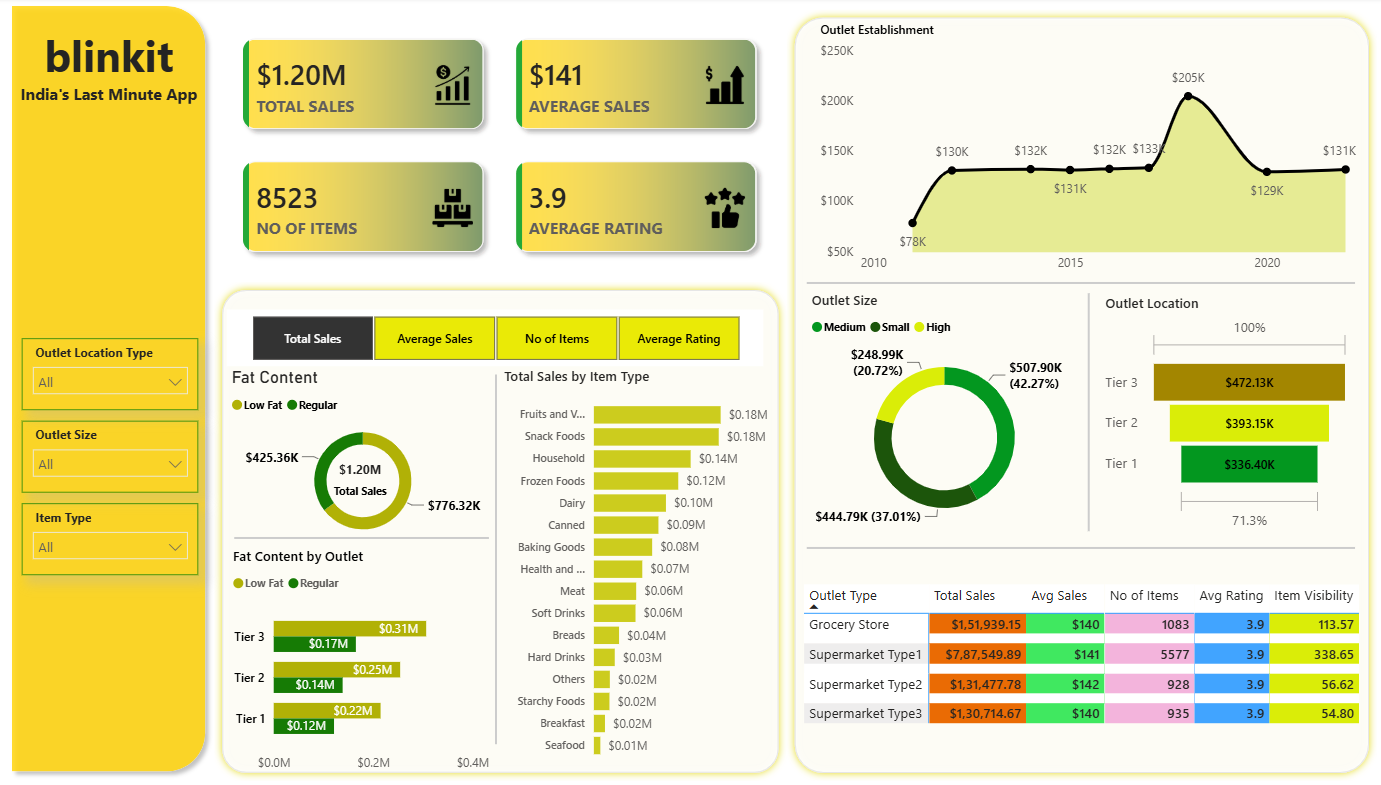

The page's visual inventory and layout, read from the dashboard file:
{"tool":"powerbi","page":{"name":"Page 1","canvas":[1400,800],"ordinal":0},"visuals":[{"type":"shape","box":[10.5,0,211.6,785],"z":0},{"type":"textbox","box":[16.5,24,199.6,88.6],"z":1000},{"type":"cardVisual","fields":{"Data":["Sheet1.Total Sales","Sheet1.Average Sales","Sheet1.No of Items","Sheet1.Average Rating"]},"box":[222.1,12,573.3,273.2],"z":2000},{"type":"shape","box":[222.1,285.2,573.3,499.8],"z":3000},{"type":"donutChart","title":"Fat Content","fields":{"Y":["Sheet1.Total Sales"],"Category":["Sheet1.Item Fat Content"]},"box":[234.1,370.7,273.2,181.6],"z":4000},{"type":"slicer","fields":{"Values":["Metrics.Metrics"]},"box":[234.1,313.7,537.3,57],"z":5000},{"type":"card","fields":{"Values":["Sheet1.Total Sales"]},"box":[336.2,460.8,64.5,43.5],"z":6000},{"type":"clusteredBarChart","title":"Fat Content by Outlet","fields":{"Y":["Sheet1.Total Sales"],"Series":["Sheet1.Item Fat Content"],"Category":["Sheet1.Outlet Location Type"]},"box":[235.6,550.8,267.2,234.1],"z":7000},{"type":"shape","box":[241.6,532.8,255.1,19.5],"z":8000},{"type":"shape","box":[496.8,378.2,13.5,370.7],"z":9000},{"type":"barChart","fields":{"Y":["Sheet1.Total Sales"],"Category":["Sheet1.Item Type"]},"box":[507.3,370.7,274.7,402.2],"z":10000},{"type":"shape","box":[795.5,12,591.3,772.9],"z":11000},{"type":"lineChart","title":"Outlet Establishment","fields":{"Category":["Sheet1.Outlet Establishment Year"],"Y":["Sheet1.Total Sales"]},"box":[824,24,549.3,261.2],"z":12000},{"type":"donutChart","title":"Outlet Size","fields":{"Y":["Sheet1.Total Sales"],"Category":["Sheet1.Outlet Size"]},"box":[815,294.2,276.2,249.1],"z":13000},{"type":"shape","box":[815,268.7,549.3,34.5],"z":14000},{"type":"shape","box":[1082.1,297.2,31.5,238.6],"z":15000},{"type":"funnel","title":"Outlet Location","fields":{"Y":["Sheet1.Total Sales"],"Category":["Sheet1.Outlet Location Type"]},"box":[1109.1,297.2,255.1,243.1],"z":16000},{"type":"shape","box":[815,519.3,549.3,64.5],"z":17000},{"type":"pivotTable","fields":{"Rows":["Sheet1.Outlet Type"],"Values":["Sheet1.Total Sales","Sheet1.Average Sales","Sheet1.No of Items","Sheet1.Average Rating","Sum(Sheet1.Item Visibility)"]},"box":[807.5,583.8,567.3,180.1],"z":18000},{"type":"slicer","fields":{"Values":["Sheet1.Outlet Location Type"]},"box":[28.5,342.2,177.1,72],"z":19000},{"type":"slicer","fields":{"Values":["Sheet1.Outlet Size"]},"box":[28.5,424.7,177.1,72],"z":20000},{"type":"slicer","fields":{"Values":["Sheet1.Item Type"]},"box":[28.5,507.3,177.1,72],"z":21000}]}

Visuals, with their boxes in screenshot pixels (x1, y1, x2, y2), scaled from the page's 1400x800 canvas onto the 1381x785 screenshot:
shape: [10, 0, 219, 770]
textbox: [16, 24, 213, 110]
cardVisual - Sheet1.Total Sales x Sheet1.Average Sales: [219, 12, 785, 280]
shape: [219, 280, 785, 770]
"Fat Content" donutChart: [231, 364, 500, 542]
slicer - Metrics.Metrics: [231, 308, 761, 364]
card - Sheet1.Total Sales: [332, 452, 395, 495]
"Fat Content by Outlet" clusteredBarChart: [232, 540, 496, 770]
shape: [238, 523, 490, 542]
shape: [490, 371, 503, 735]
barChart - Sheet1.Total Sales x Sheet1.Item Type: [500, 364, 771, 758]
shape: [785, 12, 1368, 770]
"Outlet Establishment" lineChart: [813, 24, 1355, 280]
"Outlet Size" donutChart: [804, 289, 1076, 533]
shape: [804, 264, 1346, 298]
shape: [1067, 292, 1098, 526]
"Outlet Location" funnel: [1094, 292, 1346, 530]
shape: [804, 510, 1346, 573]
pivotTable - Sheet1.Outlet Type x Sheet1.Total Sales: [797, 573, 1356, 750]
slicer - Sheet1.Outlet Location Type: [28, 336, 203, 406]
slicer - Sheet1.Outlet Size: [28, 417, 203, 487]
slicer - Sheet1.Item Type: [28, 498, 203, 568]
